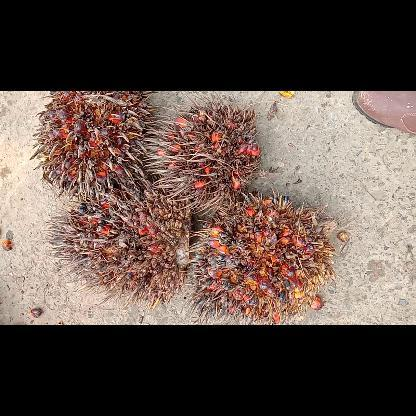Terlalu masak: (179, 188, 339, 324), (42, 176, 196, 314), (140, 91, 264, 219), (25, 90, 159, 206)
